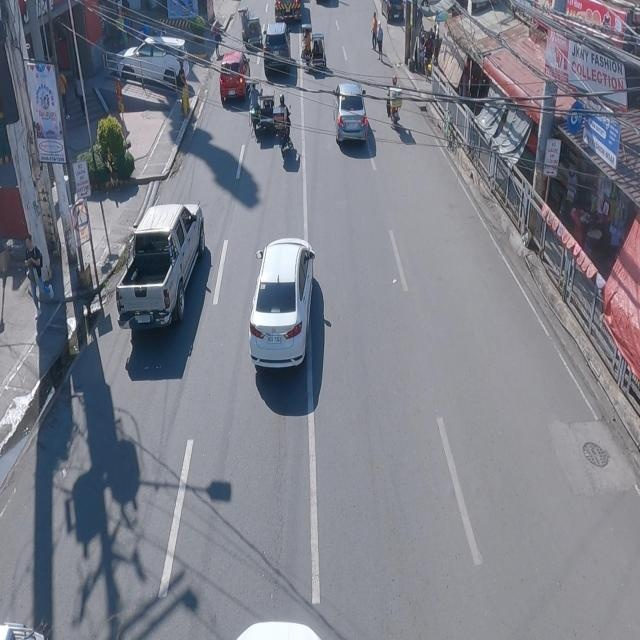Truck: (113, 195, 205, 335)
